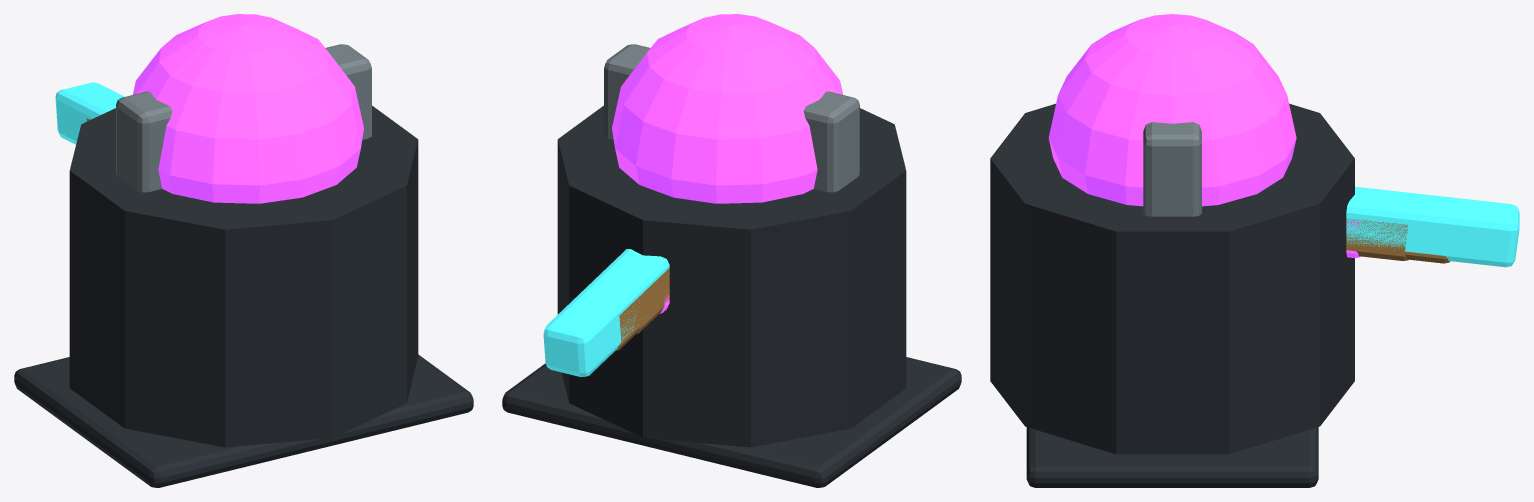
The model's file is cinder-prototype-units.glb.
3 renders of one model, left to right at view 1: azimuth 30°, elevation 25°; view 2: azimuth 150°, elevation 25°; view 3: azimuth 270°, elevation 25°, orthographic. The views are drawn at different scales.
Visible parts, largest first — view 1: Unit_BlackComet body, Unit_BlackComet head, Unit_BlackComet shadow plate, Tower_Wall slab, Tower_ColdIronLongshot barrel; view 2: Unit_BlackComet body, Unit_BlackComet head, Unit_BlackComet shadow plate, Tower_ColdIronLongshot barrel, Tower_Wall slab, Tower_Sunspitter barrel; view 3: Unit_BlackComet body, Unit_BlackComet head, Unit_BlackComet shadow plate, Tower_ColdIronLongshot barrel, Tower_Wall slab, Tower_Peacemaker barrel.
Boxes of the visible parts, box(x1,y1,x2,y2) form: Unit_BlackComet body: box(69, 105, 418, 447); Unit_BlackComet head: box(133, 14, 363, 203); Unit_BlackComet shadow plate: box(14, 354, 473, 487); Tower_Wall slab: box(116, 44, 371, 192); Tower_ColdIronLongshot barrel: box(55, 82, 124, 144); Unit_BlackComet body: box(557, 105, 906, 447); Unit_BlackComet head: box(612, 14, 842, 203); Unit_BlackComet shadow plate: box(502, 357, 961, 487); Tower_ColdIronLongshot barrel: box(543, 249, 669, 377); Tower_Wall slab: box(604, 44, 859, 192); Tower_Sunspitter barrel: box(615, 268, 669, 350); Unit_BlackComet body: box(990, 103, 1354, 454); Unit_BlackComet head: box(1048, 14, 1296, 206); Unit_BlackComet shadow plate: box(1026, 427, 1318, 487); Tower_ColdIronLongshot barrel: box(1346, 186, 1519, 267); Tower_Wall slab: box(1143, 122, 1201, 216); Tower_Peacemaker barrel: box(1346, 218, 1408, 260).
Size of the model in its own units: 1.3 by 1.44 by 1.8.
